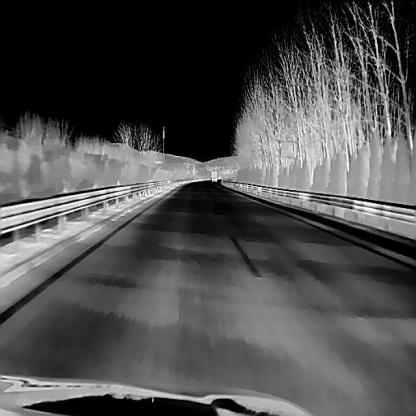car: (211, 170, 217, 181)
